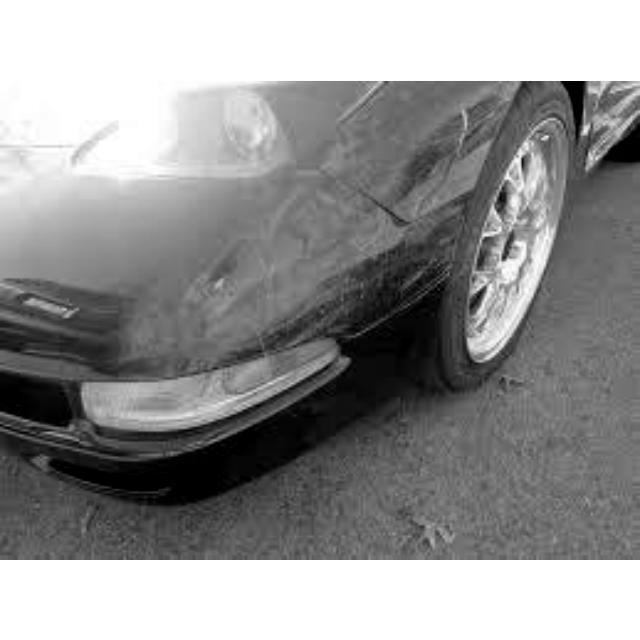front-bumper-dent: (294, 80, 474, 302)
